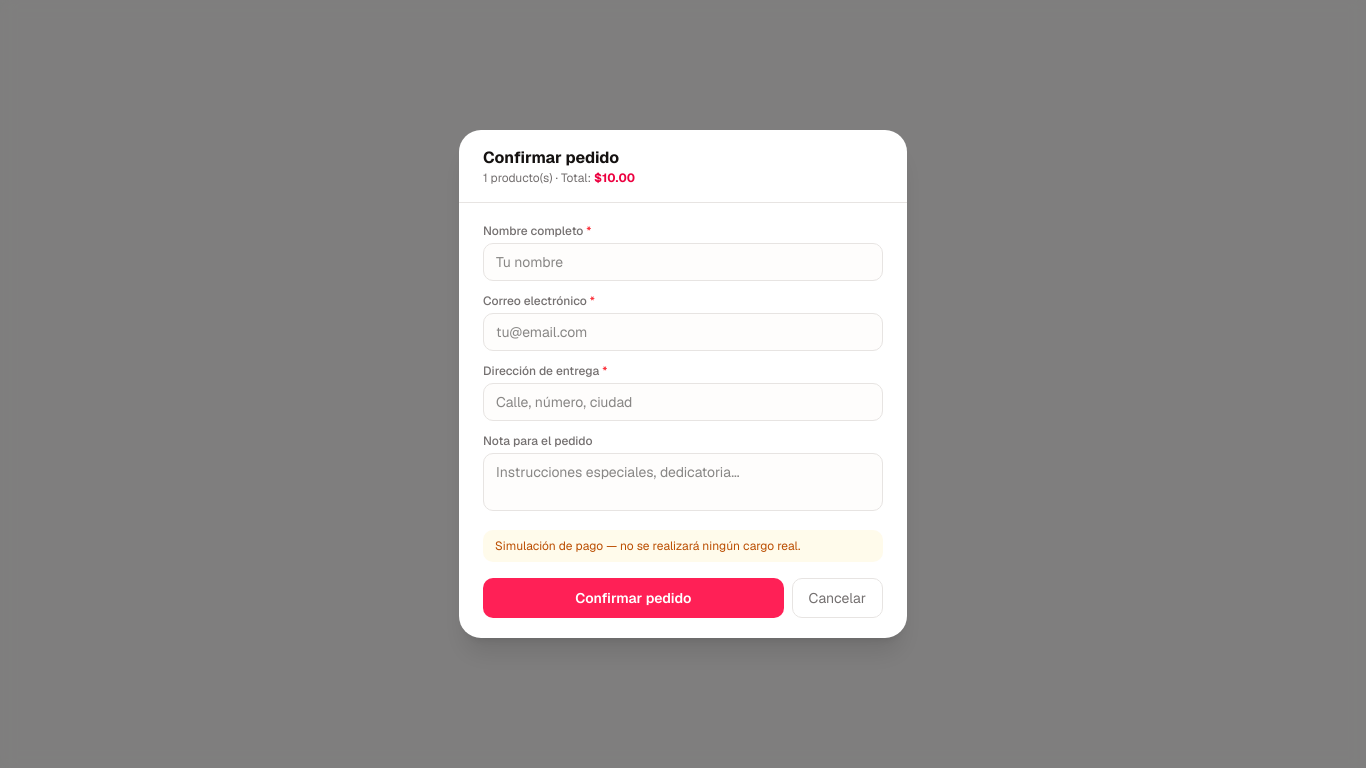
Test: ModalCheckout › rechaza email sin dominio
The image size is (1366, 768).
Type "Ana López" into the field with placeholder "Tu nombre" at point(683, 262), box [483, 243, 883, 281]
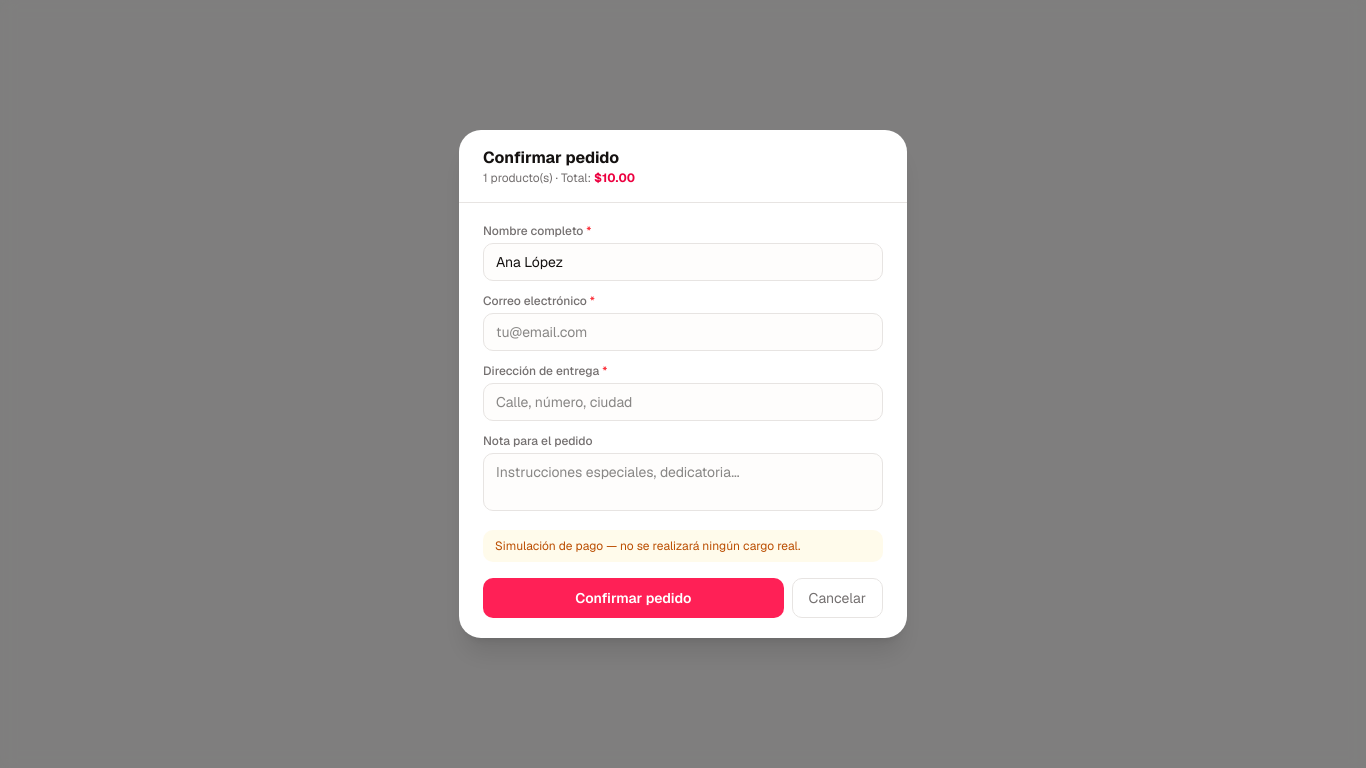
Type "nodominio@" into the field with placeholder "tu@email.com" at point(683, 332), box [483, 313, 883, 351]
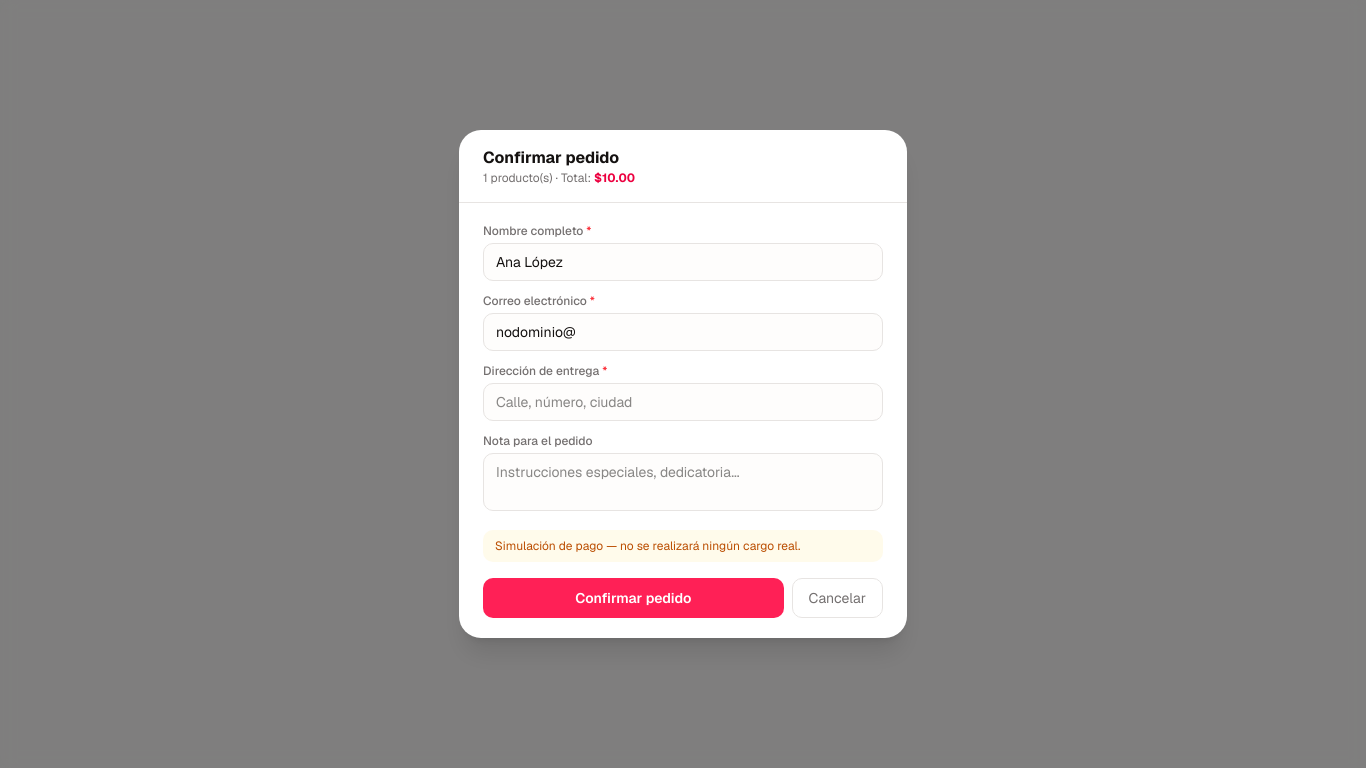
Type "Calle 1" into the field with placeholder "Calle, número, ciudad" at point(683, 402), box [483, 383, 883, 421]
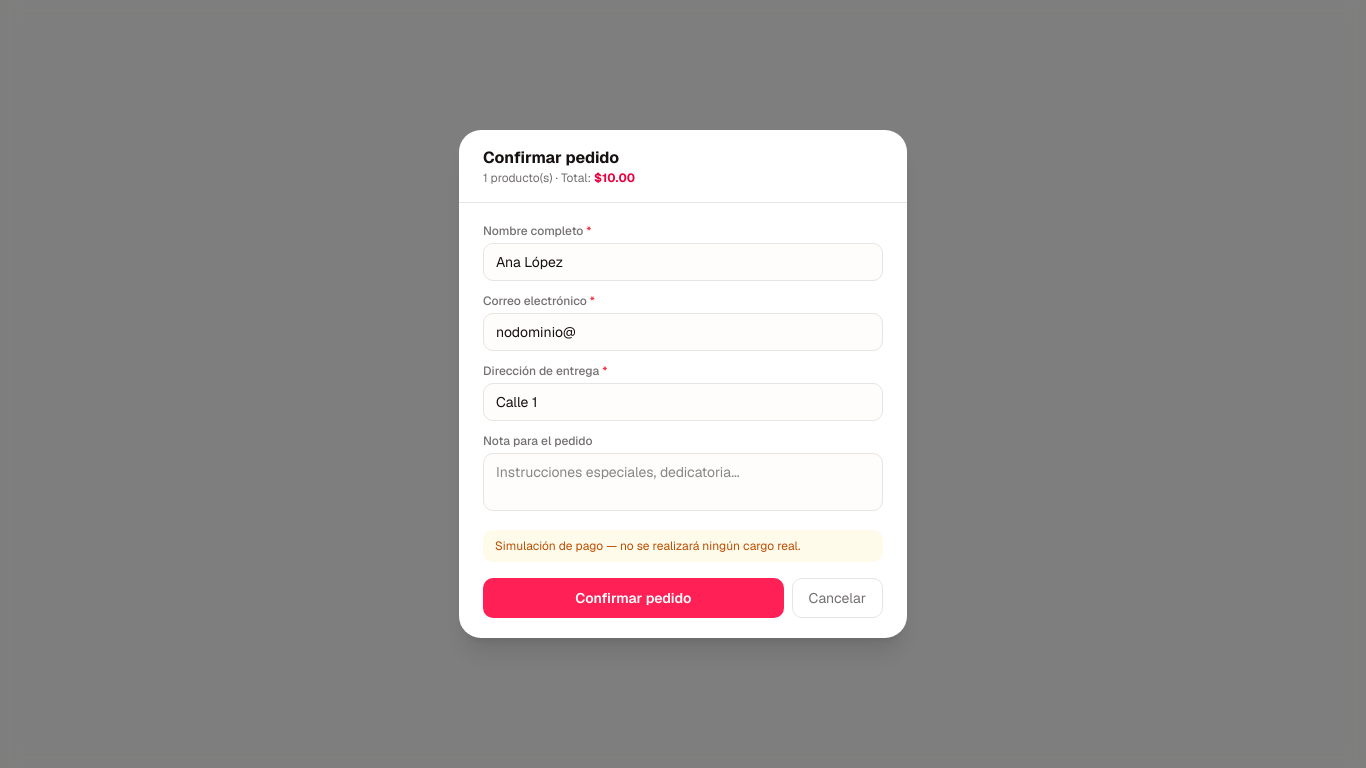
Click the button "Confirmar pedido" at point(633, 598), box [483, 578, 784, 618]
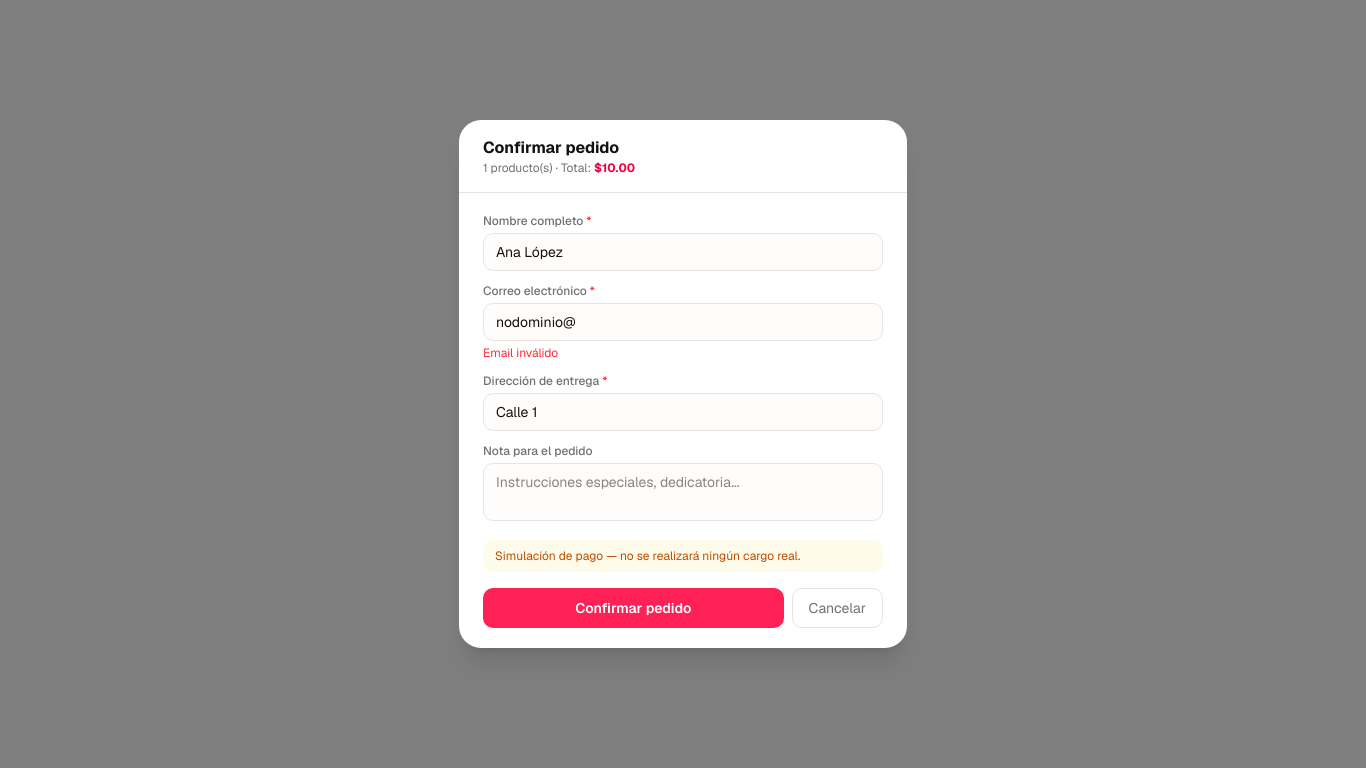
Now the text "Email inválido" is shown, box [483, 345, 558, 361]
